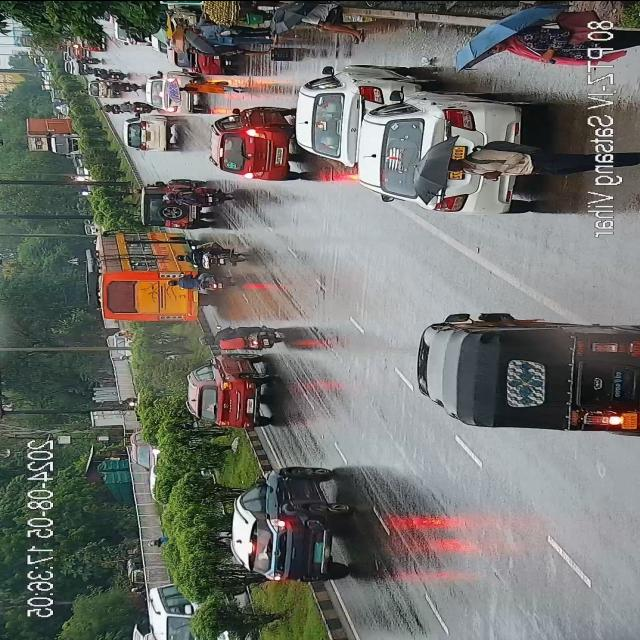2-wheelers: (196, 325, 286, 349), (172, 244, 242, 268), (165, 272, 232, 292), (153, 189, 235, 203), (67, 52, 105, 67), (111, 101, 151, 112), (104, 80, 140, 92), (86, 66, 120, 78), (96, 103, 110, 112)
auto: (410, 316, 640, 434)
bus: (90, 228, 214, 330)
car: (360, 88, 514, 200), (228, 464, 350, 584), (294, 66, 398, 160), (184, 353, 272, 428), (212, 111, 302, 183), (138, 180, 218, 226), (133, 586, 193, 640), (125, 114, 175, 154), (146, 74, 194, 114), (170, 54, 242, 78), (130, 438, 160, 470), (88, 80, 110, 98)
pedestrian: (417, 142, 583, 180), (466, 30, 556, 62), (294, 7, 362, 40), (177, 22, 271, 34), (190, 36, 272, 47), (185, 45, 275, 55), (176, 82, 242, 92)
truck: (28, 116, 82, 156)
